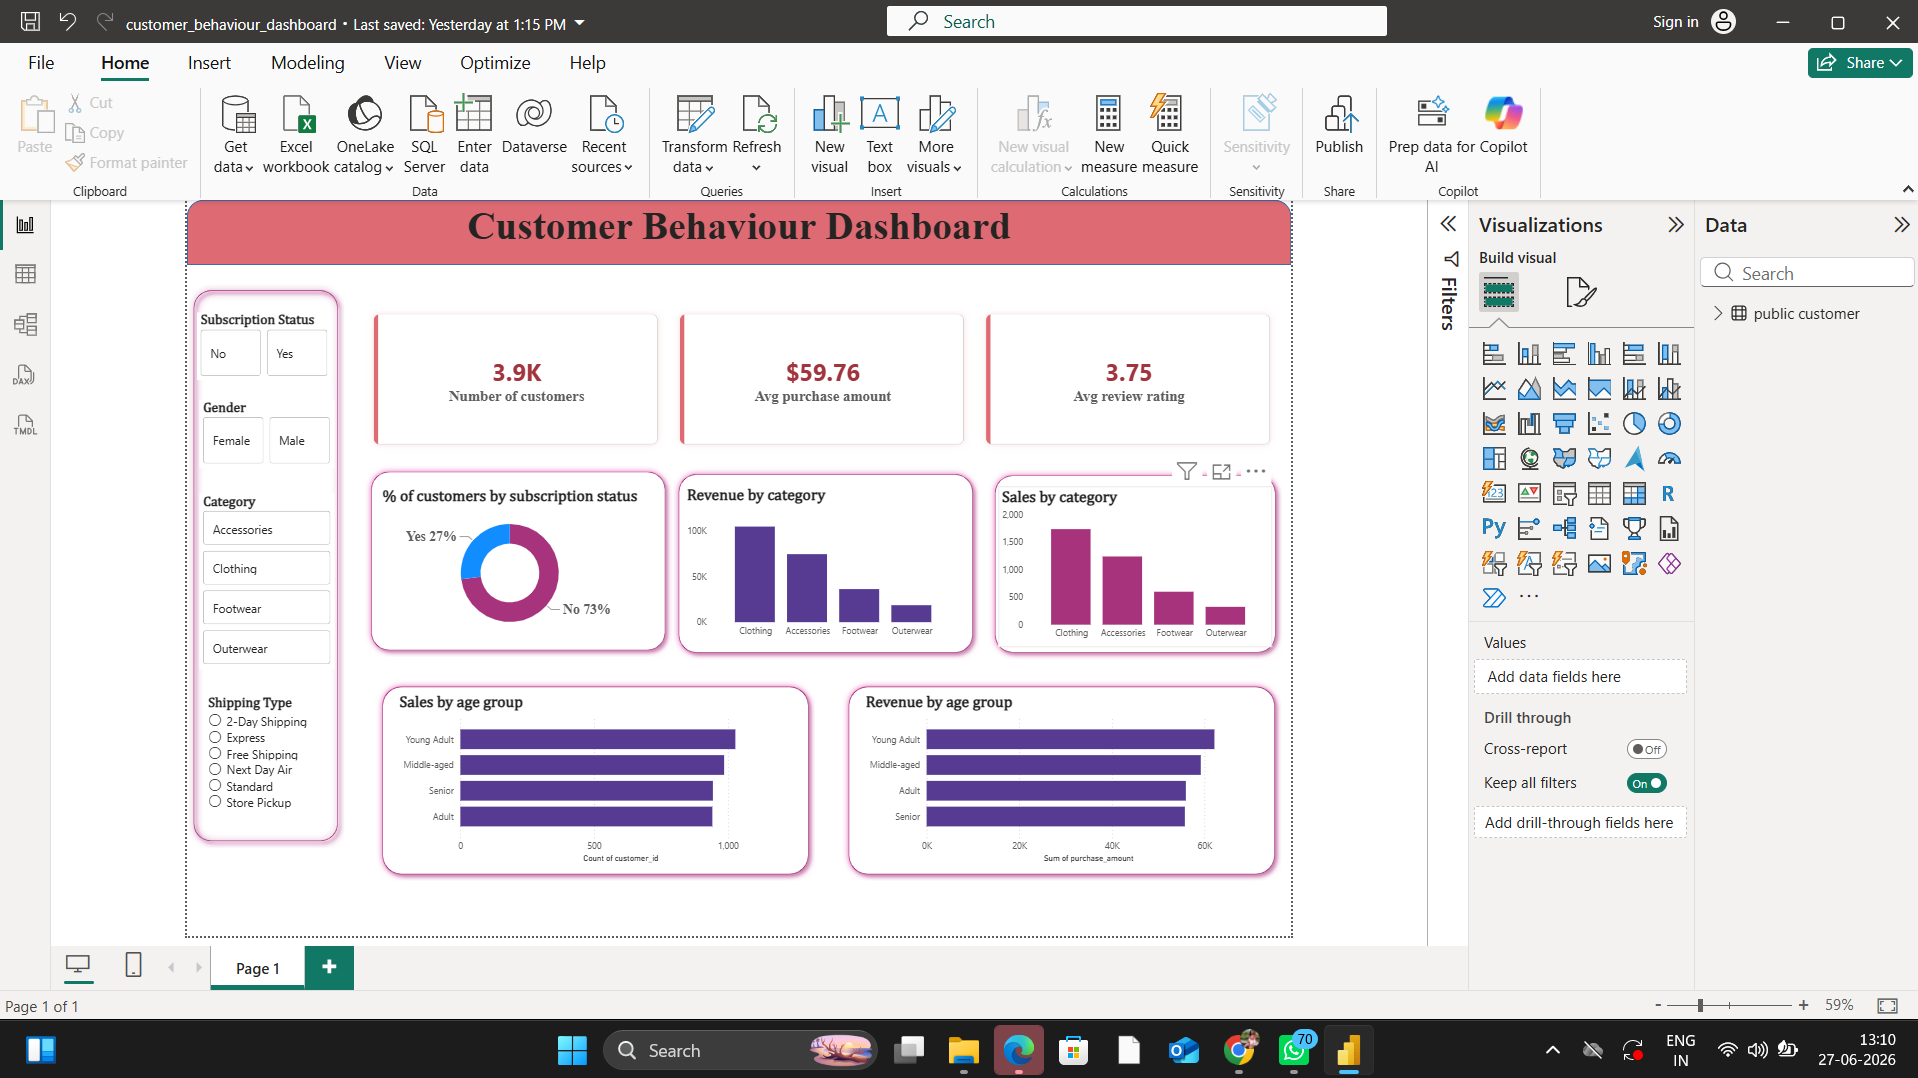

What the dashboard file says about the page in this screenshot:
{"tool":"powerbi","page":{"name":"Page 1","canvas":[1500,1000],"ordinal":0},"visuals":[{"type":"cardVisual","fields":{"Data":["public customer.number of customers","public customer.avg purchase amount","public customer.avg review rating"]},"box":[225.1,127,1275.2,233.2],"z":0},{"type":"shape","box":[0,0,1500.3,88.4],"z":1000},{"type":"textbox","box":[0,0,1500.3,70.8],"z":2000},{"type":"shape","box":[240.5,360.7,417.8,260.9],"z":3000},{"type":"donutChart","title":"% of customers by subscription status","fields":{"Category":["public customer.subscription_status"],"Y":["CountNonNull(public customer.customer_id)"]},"box":[256.8,383.2,364.8,214],"z":4000},{"type":"shape","box":[1088.3,364.8,399.5,258.8],"z":5000},{"type":"shape","box":[658.3,362.8,417.8,260.9],"z":6000},{"type":"clusteredColumnChart","title":"Revenue by category","fields":{"Y":["Sum(public customer.purchase_amount)"],"Category":["public customer.category"]},"box":[674.6,385.2,373,218.1],"z":7000},{"type":"clusteredColumnChart","title":"Sales by category","fields":{"Y":["CountNonNull(public customer.customer_id)"],"Category":["public customer.category"]},"box":[1102.6,389.3,370.9,218.1],"z":8000},{"type":"shape","box":[0,114.1,214,766.3],"z":9000},{"type":"advancedSlicerVisual","title":"Subscription Status","fields":{"Values":["public customer.subscription_status"]},"box":[14.3,152.9,183.4,91.7],"z":10000},{"type":"advancedSlicerVisual","title":"Gender","fields":{"Values":["public customer.gender"]},"box":[16.3,271.1,183.4,91.7],"z":11000},{"type":"advancedSlicerVisual","title":"Category","fields":{"Values":["public customer.category"]},"box":[16.3,399.5,183.4,238.5],"z":12000},{"type":"listSlicer","title":"Shipping Type","fields":{"Values":["public customer.shipping_type"]},"box":[24.5,672.6,163,183.4],"z":13000},{"type":"shape","box":[256.8,652.2,597.1,273.1],"z":14000},{"type":"clusteredBarChart","title":"Sales by age group","fields":{"Category":["public customer.age_group"],"Y":["CountNonNull(public customer.customer_id)"]},"box":[283.3,670.5,544.2,234.4],"z":15000},{"type":"clusteredBarChart","title":"Revenue by age group","fields":{"Category":["public customer.age_group"],"Y":["Sum(public customer.purchase_amount)"]},"box":[919.2,672.6,544.2,234.4],"z":16000},{"type":"shape","box":[890.6,652.2,597.1,273.1],"z":17000},{"type":"clusteredBarChart","title":"Revenue by age group","fields":{"Category":["public customer.age_group"],"Y":["Sum(public customer.purchase_amount)"]},"box":[917.1,670.9,543.5,234.4],"z":18000}]}

Visuals, with their boxes on the page's 1500x1000 design canvas (x1, y1, x2, y2). These are canvas units, not pixel positions in the 1918x1078 screenshot, which may show the page scaled, cropped or inside an application window:
cardVisual - public customer.number of customers x public customer.avg purchase amount: bbox=[225, 127, 1500, 360]
shape: bbox=[0, 0, 1500, 88]
textbox: bbox=[0, 0, 1500, 71]
shape: bbox=[240, 361, 658, 622]
"% of customers by subscription status" donutChart: bbox=[257, 383, 622, 597]
shape: bbox=[1088, 365, 1488, 624]
shape: bbox=[658, 363, 1076, 624]
"Revenue by category" clusteredColumnChart: bbox=[675, 385, 1048, 603]
"Sales by category" clusteredColumnChart: bbox=[1103, 389, 1474, 607]
shape: bbox=[0, 114, 214, 880]
"Subscription Status" advancedSlicerVisual: bbox=[14, 153, 198, 245]
"Gender" advancedSlicerVisual: bbox=[16, 271, 200, 363]
"Category" advancedSlicerVisual: bbox=[16, 400, 200, 638]
"Shipping Type" listSlicer: bbox=[24, 673, 188, 856]
shape: bbox=[257, 652, 854, 925]
"Sales by age group" clusteredBarChart: bbox=[283, 670, 828, 905]
"Revenue by age group" clusteredBarChart: bbox=[919, 673, 1463, 907]
shape: bbox=[891, 652, 1488, 925]
"Revenue by age group" clusteredBarChart: bbox=[917, 671, 1461, 905]
